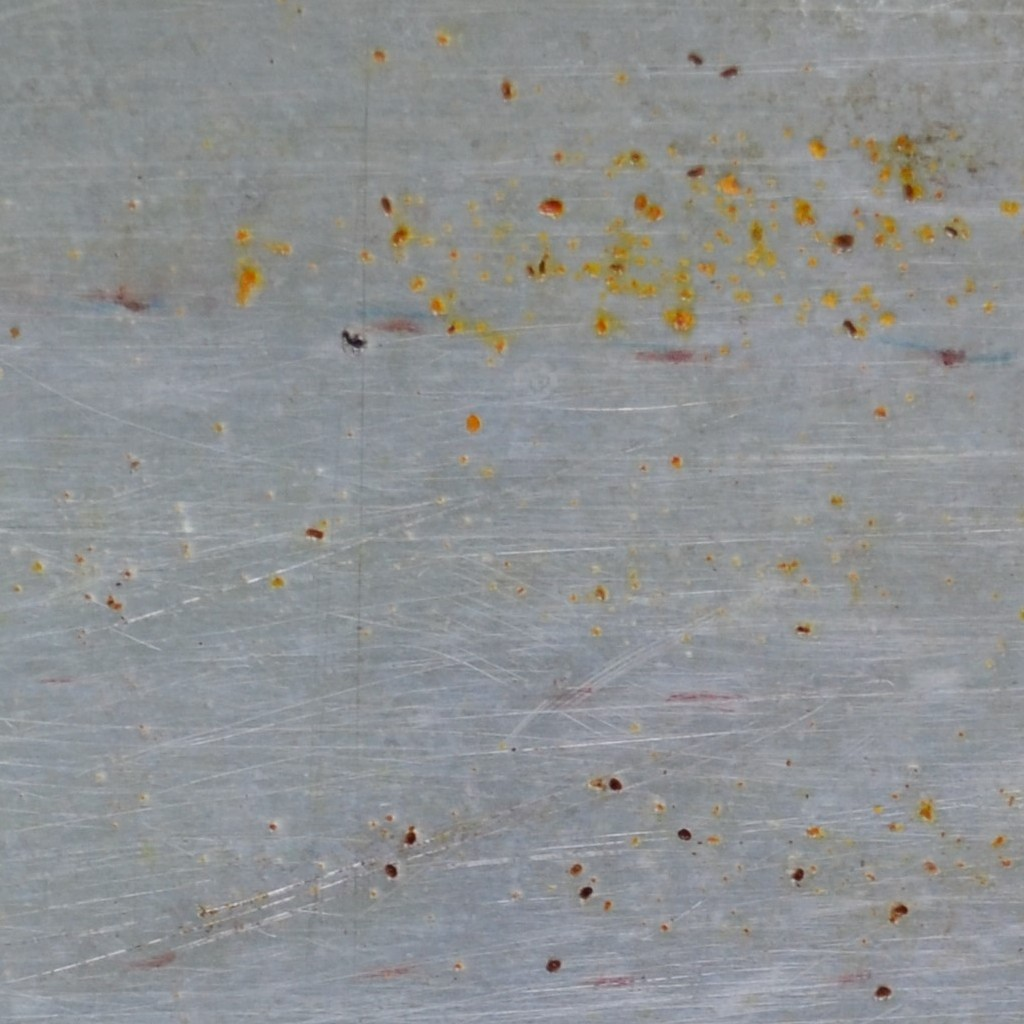varroa: (382, 860, 399, 882), (544, 957, 563, 976), (577, 883, 594, 903), (873, 985, 894, 1000), (401, 829, 418, 846), (674, 827, 693, 842), (607, 774, 622, 792), (791, 865, 806, 883), (569, 860, 583, 877), (894, 901, 909, 916)
